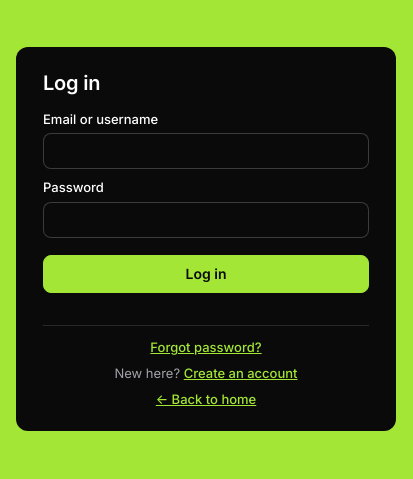
Test: login shows server error
The image size is (413, 479).
In the field labelled "Email or username": (206, 151) [43, 133, 369, 169], type "a"
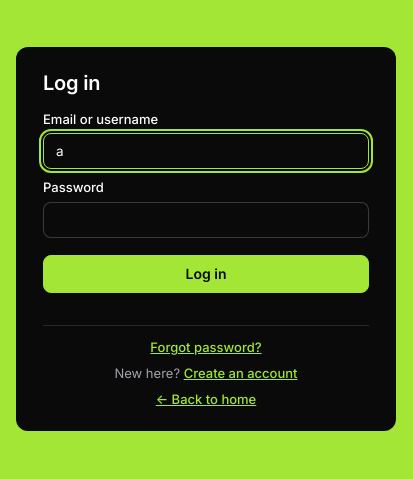
In the password field labelled "Password": (206, 220) [43, 202, 369, 238], type "b"
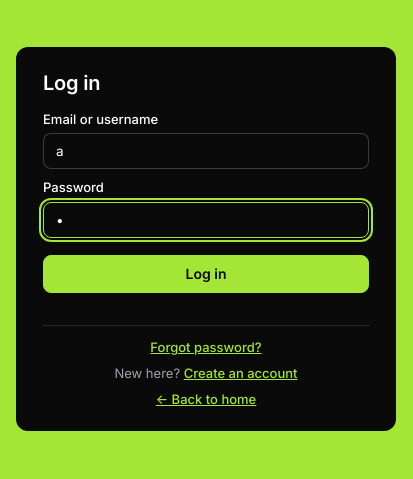
Click the button "Log in": (206, 274) [43, 255, 369, 293]
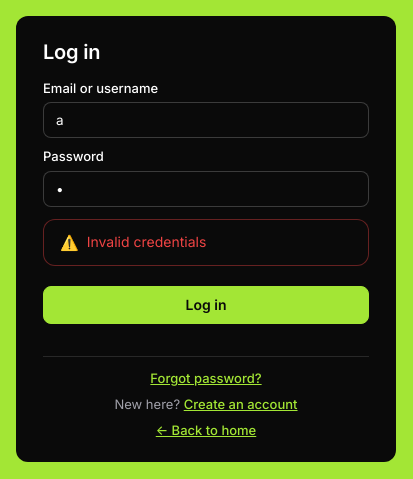
expect the text "Invalid credentials" is shown: met, box [87, 232, 206, 252]
